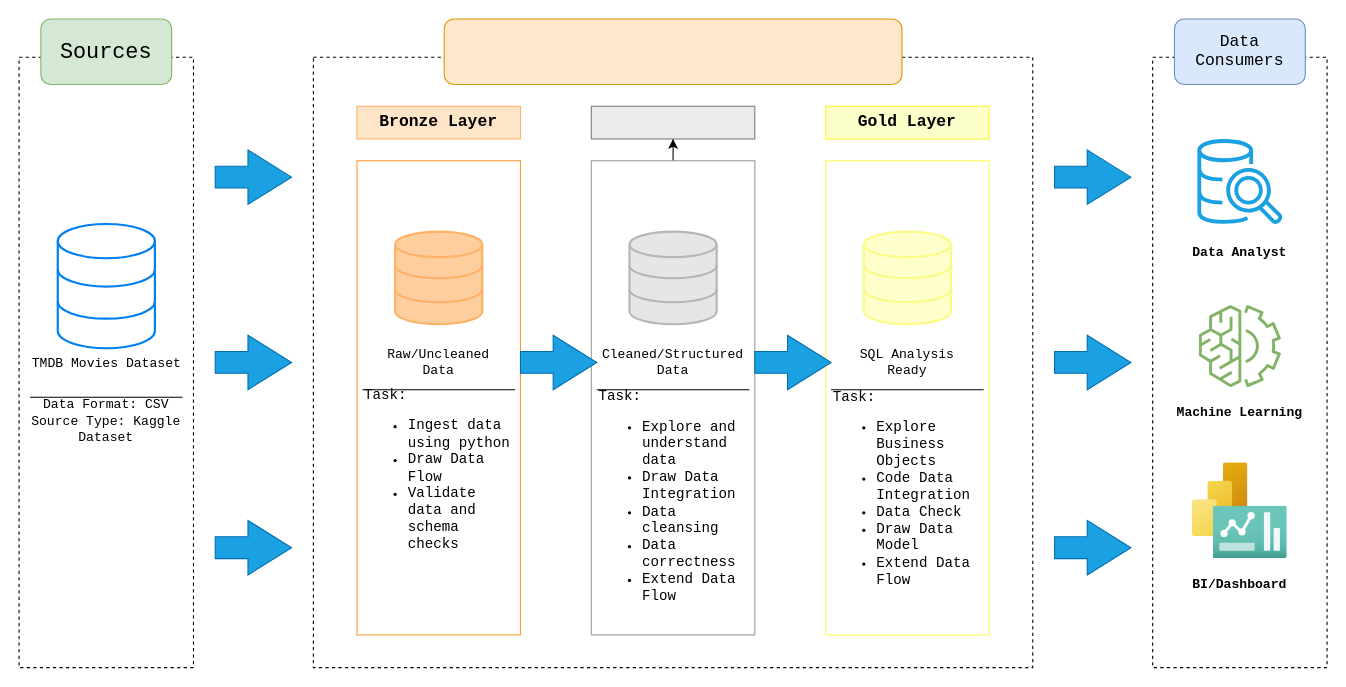
Image size: 1346x687. Some labels were removed from this diagram. Each missing label, with the centre of its shape:
"Data Warehouse" goes at [672,51].
"Silver Layer" goes at [672,122].
